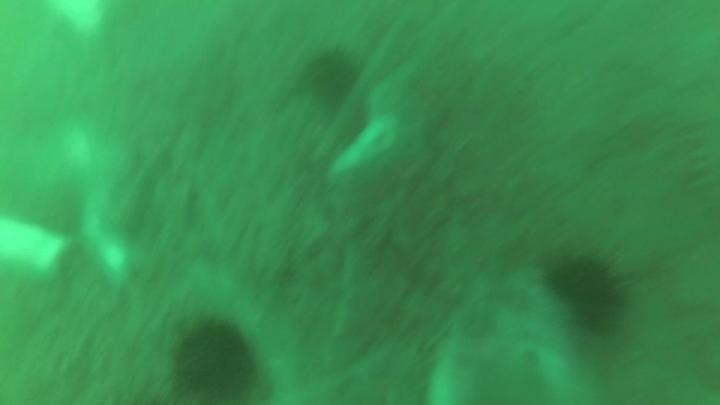echinus: (176, 329, 254, 405), (551, 259, 625, 332), (311, 54, 359, 99)
